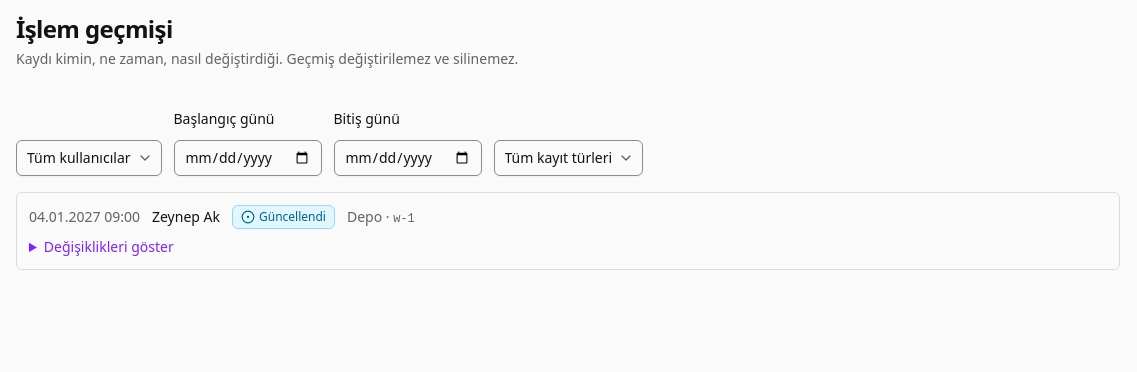
Test case: AuditPage › shows who changed what and when, with each field's old and new value
This screenshot has width=1137, height=372.
Expected: the text "Zeynep Ak" is shown, top-left (152, 207), bottom-right (220, 227)
Expected: the text "04.01.2027 09:00" is shown, top-left (29, 207), bottom-right (140, 227)
Click the heading "Değişiklikleri göster". click: (109, 247)
box: top-left (44, 237), bottom-right (174, 256)
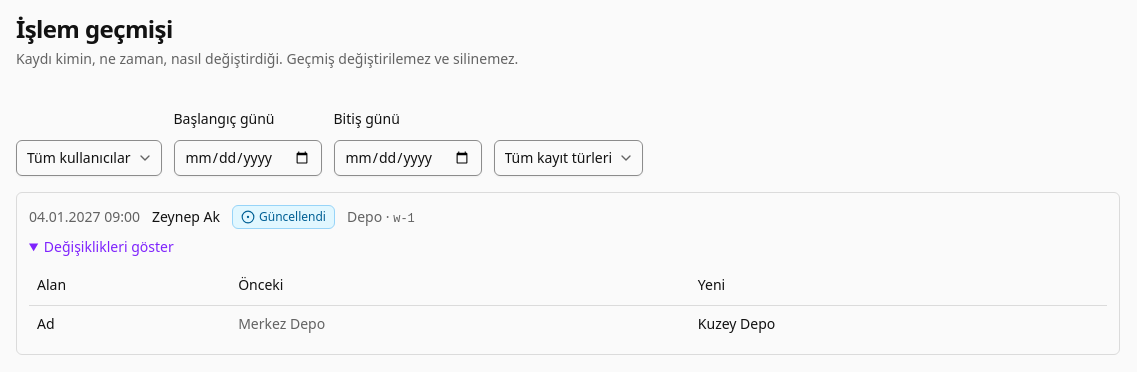
Expected: the cell "Merkez Depo" is shown, top-left (230, 305), bottom-right (690, 342)
Expected: the cell "Kuzey Depo" is shown, top-left (690, 305), bottom-right (1107, 342)
